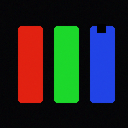1 square: (97, 24, 105, 32)
